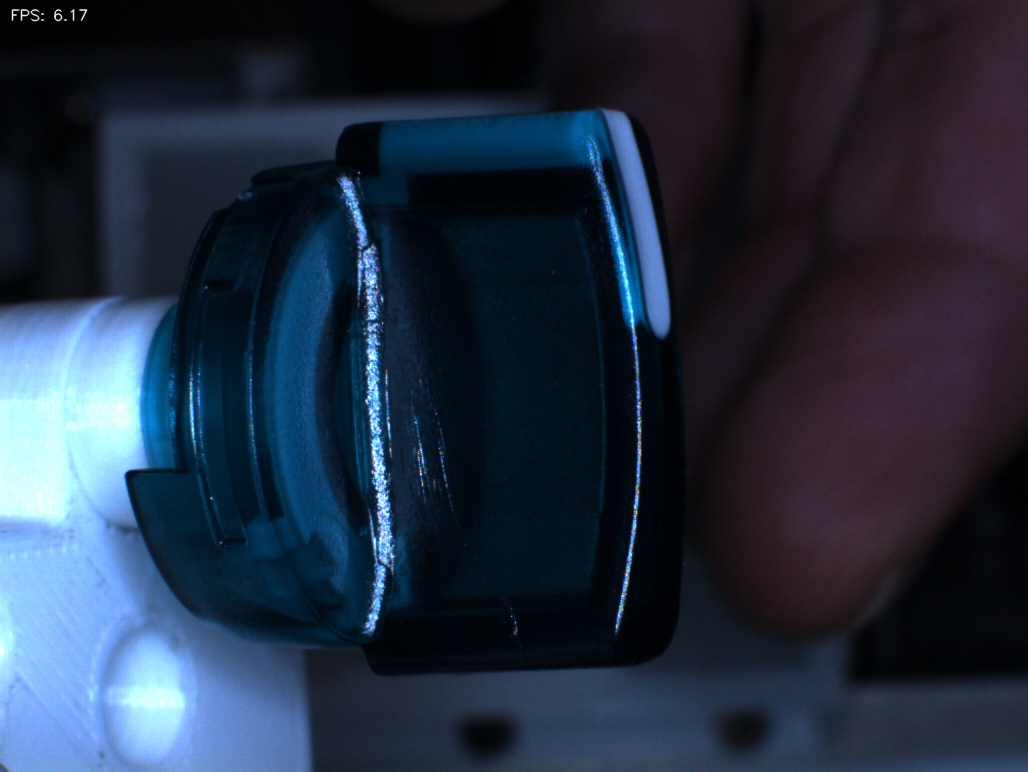Givrage: (385, 352, 490, 547), (436, 558, 546, 662)
